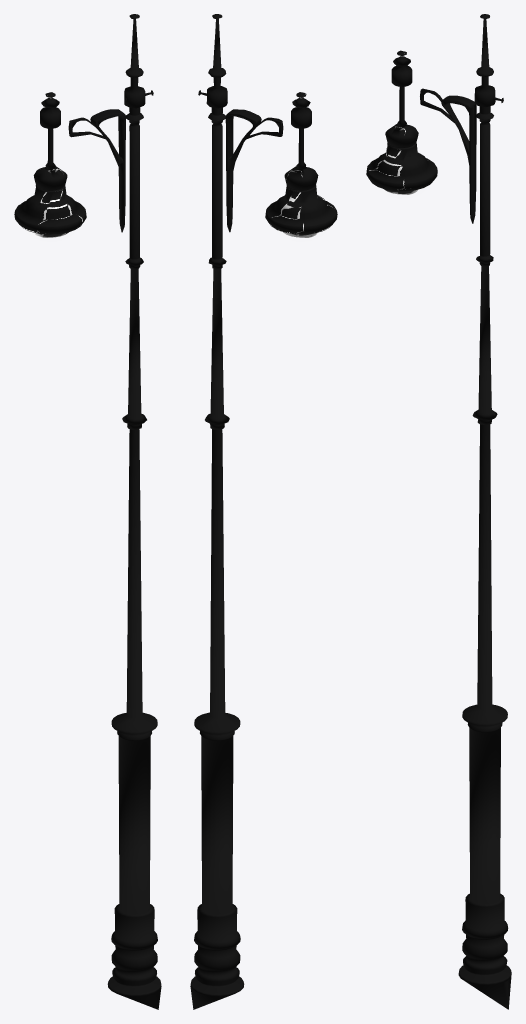
File: street_lamp.glb
3 views of the same model, side by side, from view 1: azimuth 30°, elevation 25°; view 2: azimuth 150°, elevation 25°; view 3: azimuth 330°, elevation 25° (orthographic).
Visible parts, largest first — view 1: polySurface12_lambert2_0; view 2: polySurface12_lambert2_0; view 3: polySurface12_lambert2_0.
Boxes of the visible parts, <box> form: polySurface12_lambert2_0: <box>14,14,161,1009</box>; polySurface12_lambert2_0: <box>190,14,337,1009</box>; polySurface12_lambert2_0: <box>366,14,511,1009</box>.
Size of the model in its own units: 7.11 by 48.76 by 3.21.
Materials: 2 (1 with a texture image).
